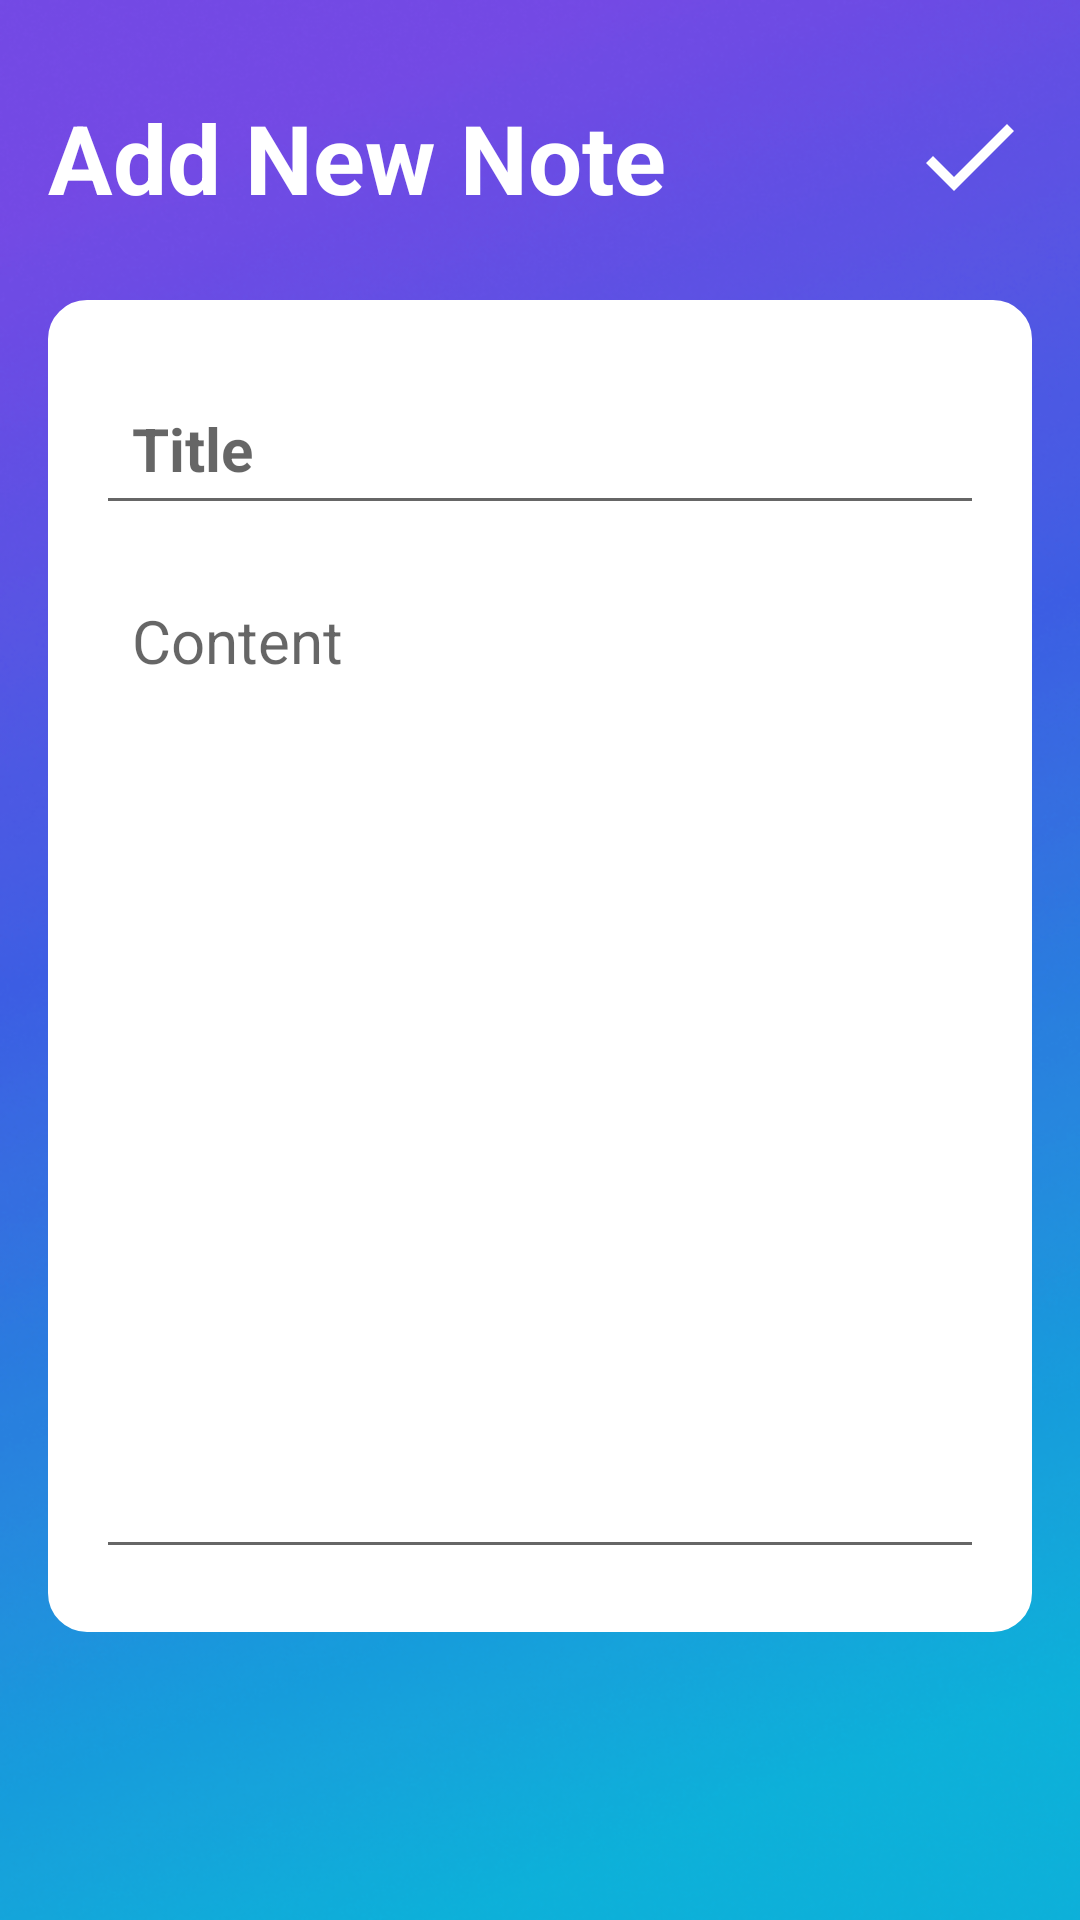

Locate icon controls on the screen. Image size 1080*1920, boxes as [x1, y1, x2, y2].
done: [926, 124, 1014, 191]
